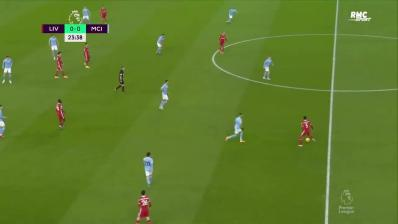football: (303, 136, 311, 144)
player: (224, 112, 248, 145), (296, 115, 317, 149), (140, 150, 158, 189), (52, 98, 70, 132), (136, 188, 153, 224), (156, 79, 172, 112), (1, 54, 15, 88), (53, 51, 68, 82), (47, 34, 62, 62), (261, 56, 276, 82), (81, 42, 94, 71), (216, 30, 229, 56), (154, 34, 168, 57), (0, 102, 8, 141), (225, 7, 239, 26), (79, 6, 92, 26), (98, 4, 109, 26)
referee: (113, 64, 128, 96)
